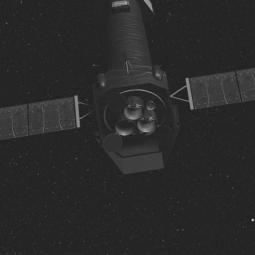xmm_newton: (76, 0, 201, 176)
